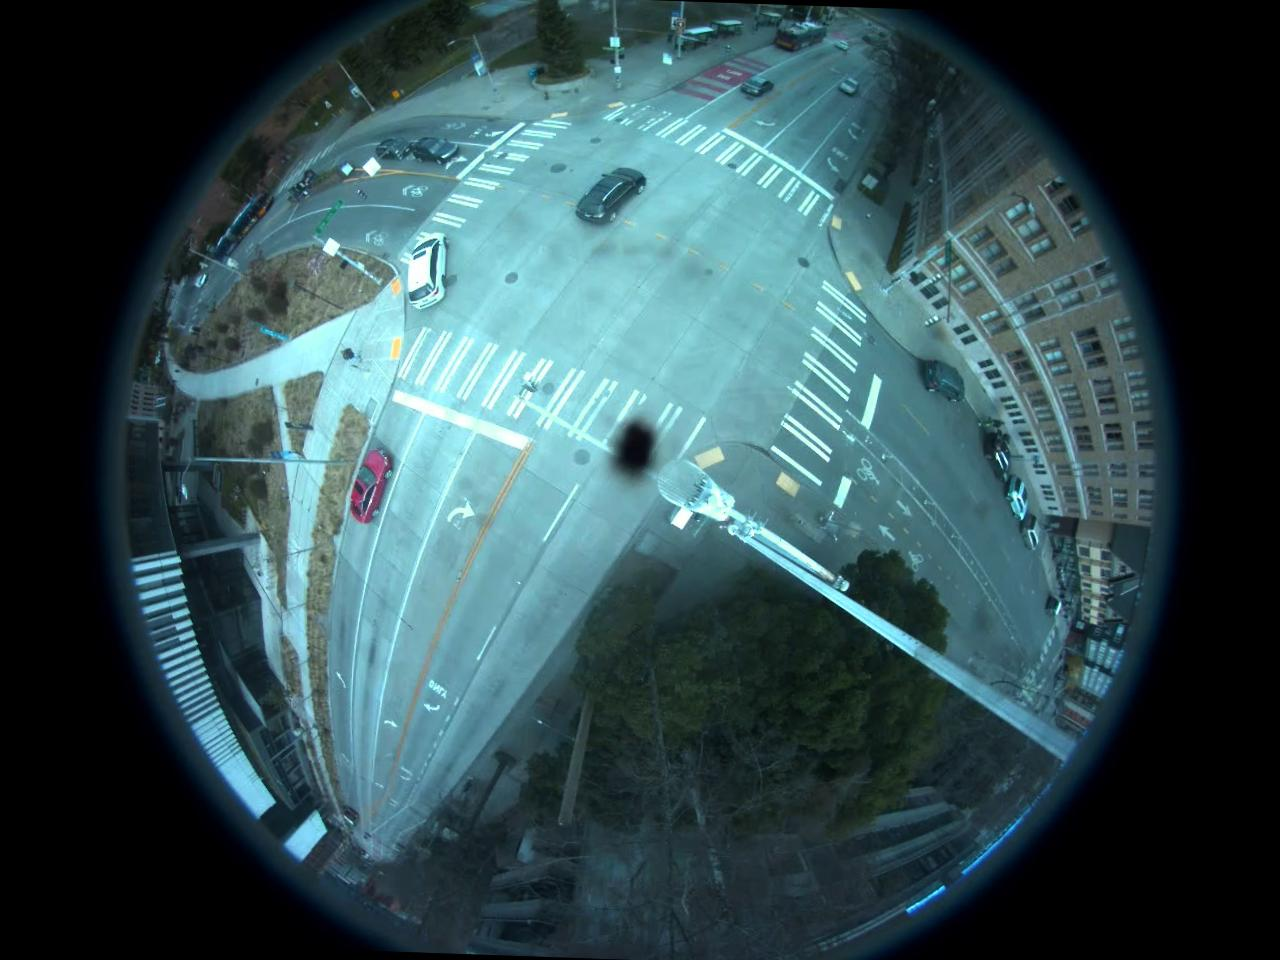bus: (211, 189, 273, 259), (776, 20, 830, 51)
car: (574, 163, 646, 226), (344, 448, 398, 528), (405, 234, 447, 312), (919, 363, 964, 400), (409, 134, 458, 164), (1004, 475, 1032, 523), (983, 434, 1008, 484), (1017, 510, 1044, 554), (740, 72, 776, 97), (373, 137, 410, 160), (836, 78, 863, 95)
person: (334, 344, 362, 364)
